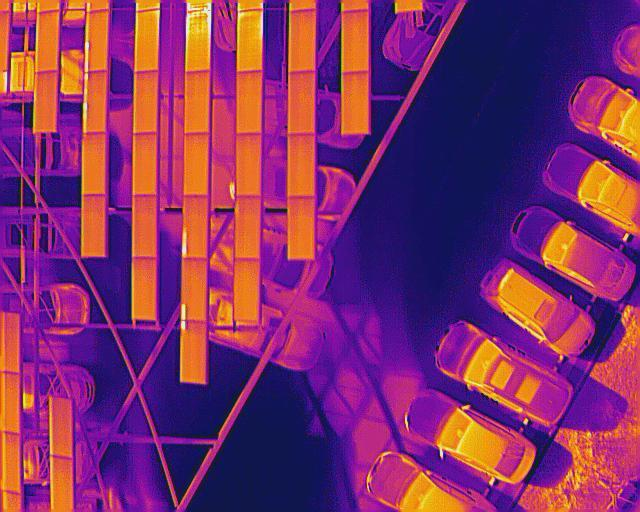No-Anomaly: (340, 12, 371, 73), (340, 74, 371, 133), (287, 134, 316, 197), (287, 70, 316, 133), (287, 197, 316, 259), (233, 259, 260, 322), (288, 10, 316, 70), (130, 258, 157, 320), (234, 195, 260, 259), (130, 194, 156, 257), (81, 194, 107, 257), (182, 133, 208, 196), (235, 134, 261, 196), (134, 9, 159, 70), (31, 72, 56, 132), (183, 72, 207, 134), (236, 72, 260, 134), (34, 11, 58, 73), (132, 134, 156, 195), (81, 133, 105, 194), (134, 71, 156, 133), (0, 432, 21, 494), (0, 311, 19, 374), (0, 371, 19, 434)
Unclassified: (180, 195, 207, 259), (181, 320, 207, 383), (181, 258, 207, 320), (238, 10, 264, 72), (84, 9, 109, 71), (186, 8, 210, 72), (83, 71, 106, 132)
